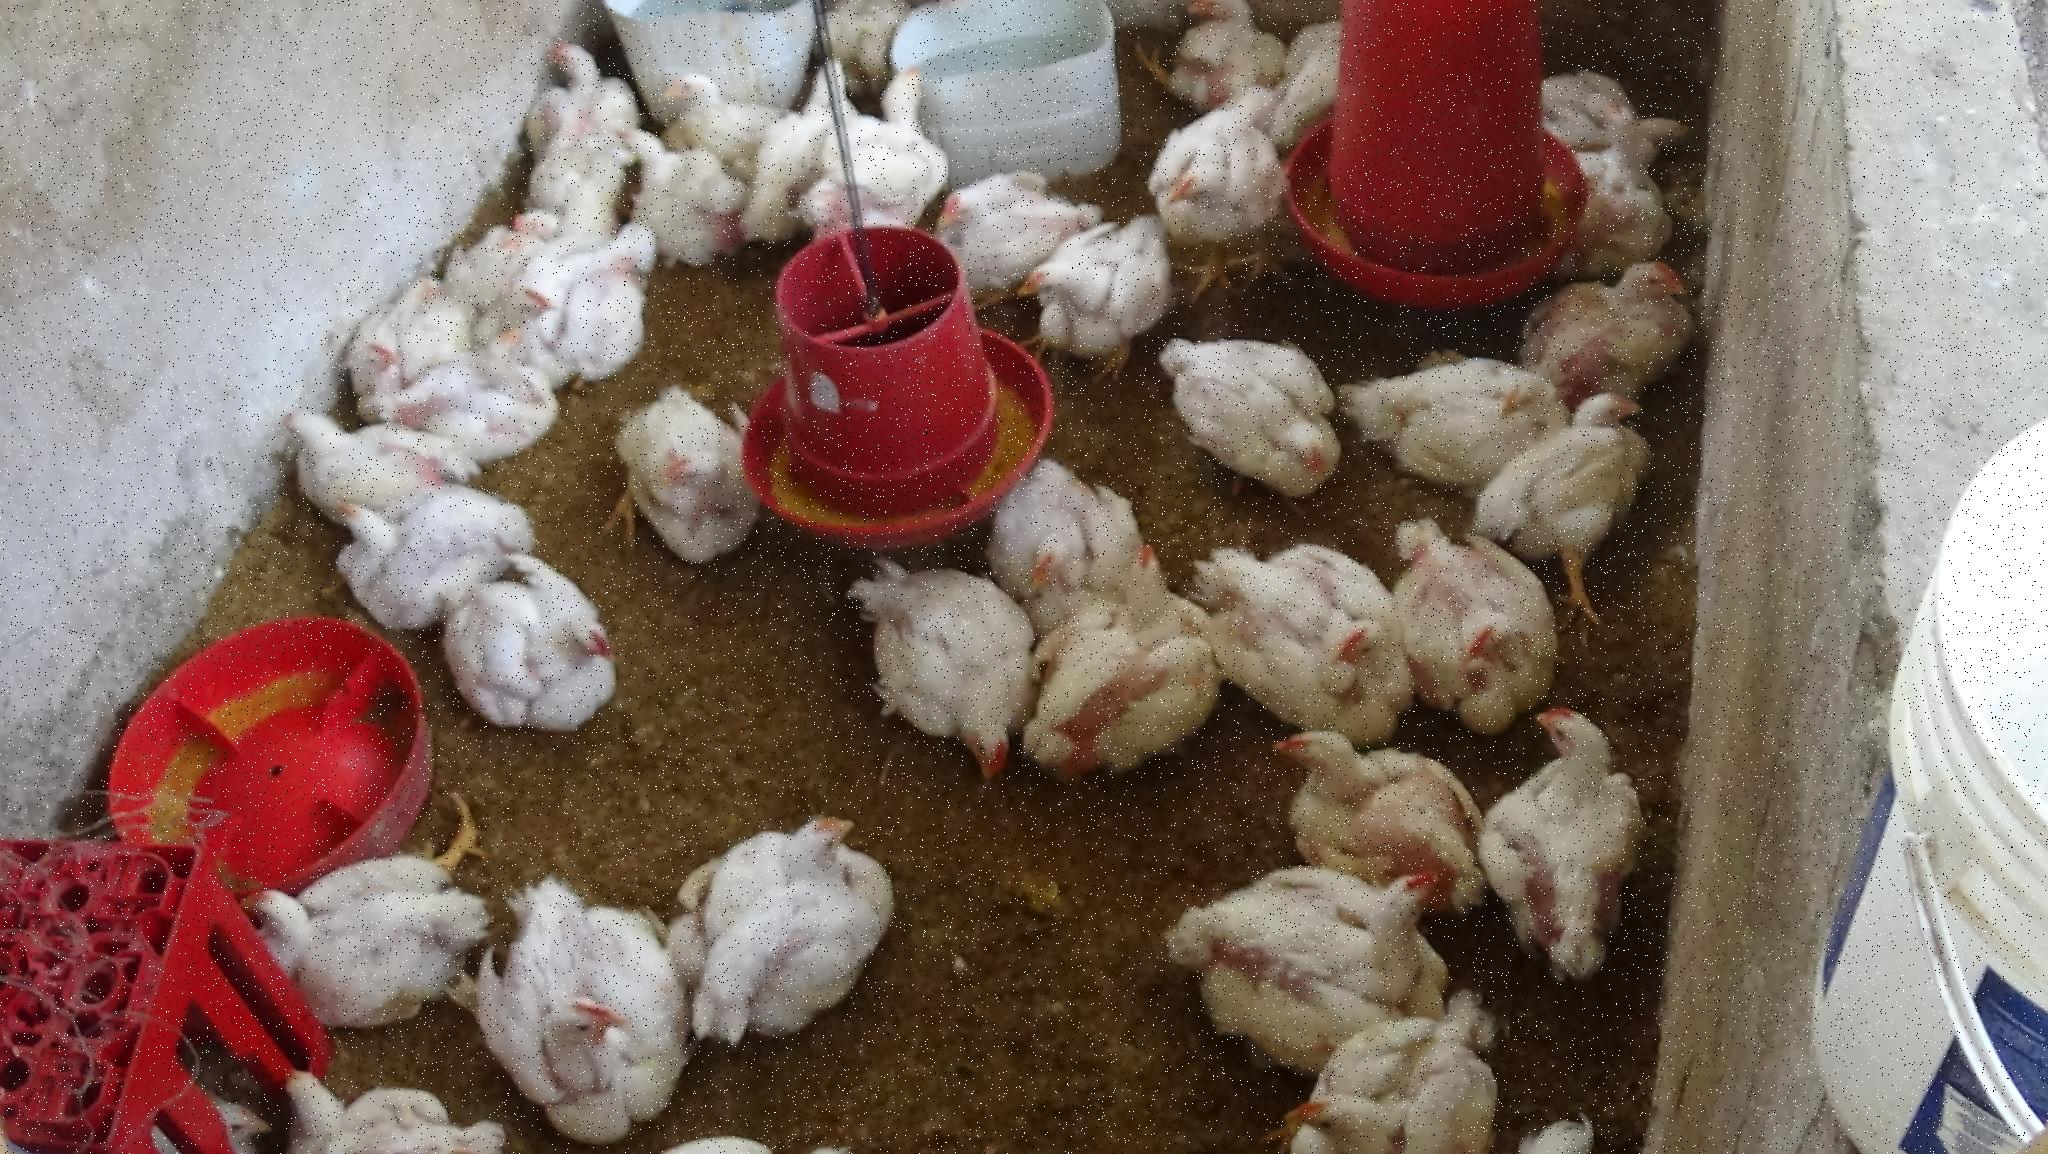Pollos: (246, 818, 489, 1032), (488, 881, 692, 1136), (1495, 697, 1667, 979), (700, 806, 895, 1032), (1030, 546, 1212, 782), (1200, 863, 1463, 1025), (1274, 718, 1488, 908), (1291, 998, 1523, 1154), (1218, 549, 1412, 726), (608, 387, 798, 566), (859, 569, 1013, 782), (1487, 395, 1668, 570), (449, 560, 629, 735), (1394, 529, 1560, 711), (1160, 336, 1340, 500), (328, 493, 535, 615), (1362, 341, 1559, 467), (1153, 107, 1286, 288), (250, 1072, 537, 1154), (255, 402, 461, 504), (940, 155, 1097, 280), (1028, 242, 1165, 381), (1124, 1, 1284, 111), (1580, 108, 1702, 251), (1563, 260, 1698, 384), (617, 129, 719, 236), (866, 66, 948, 186), (173, 1065, 279, 1153), (789, 48, 859, 155), (326, 311, 407, 395), (549, 32, 630, 108), (1007, 514, 1075, 597), (665, 61, 738, 131), (489, 279, 560, 336), (501, 196, 572, 243)
